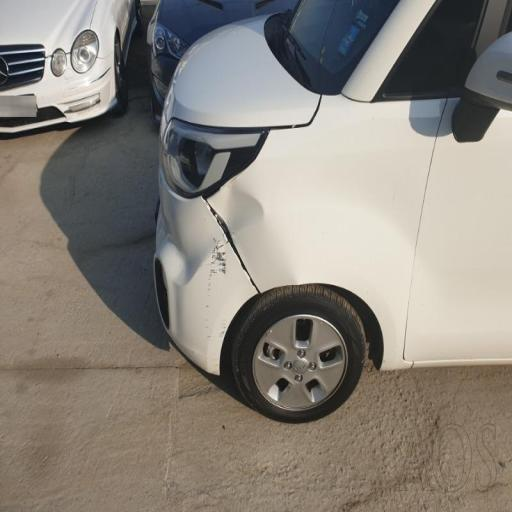broken: (175, 157, 286, 339)
